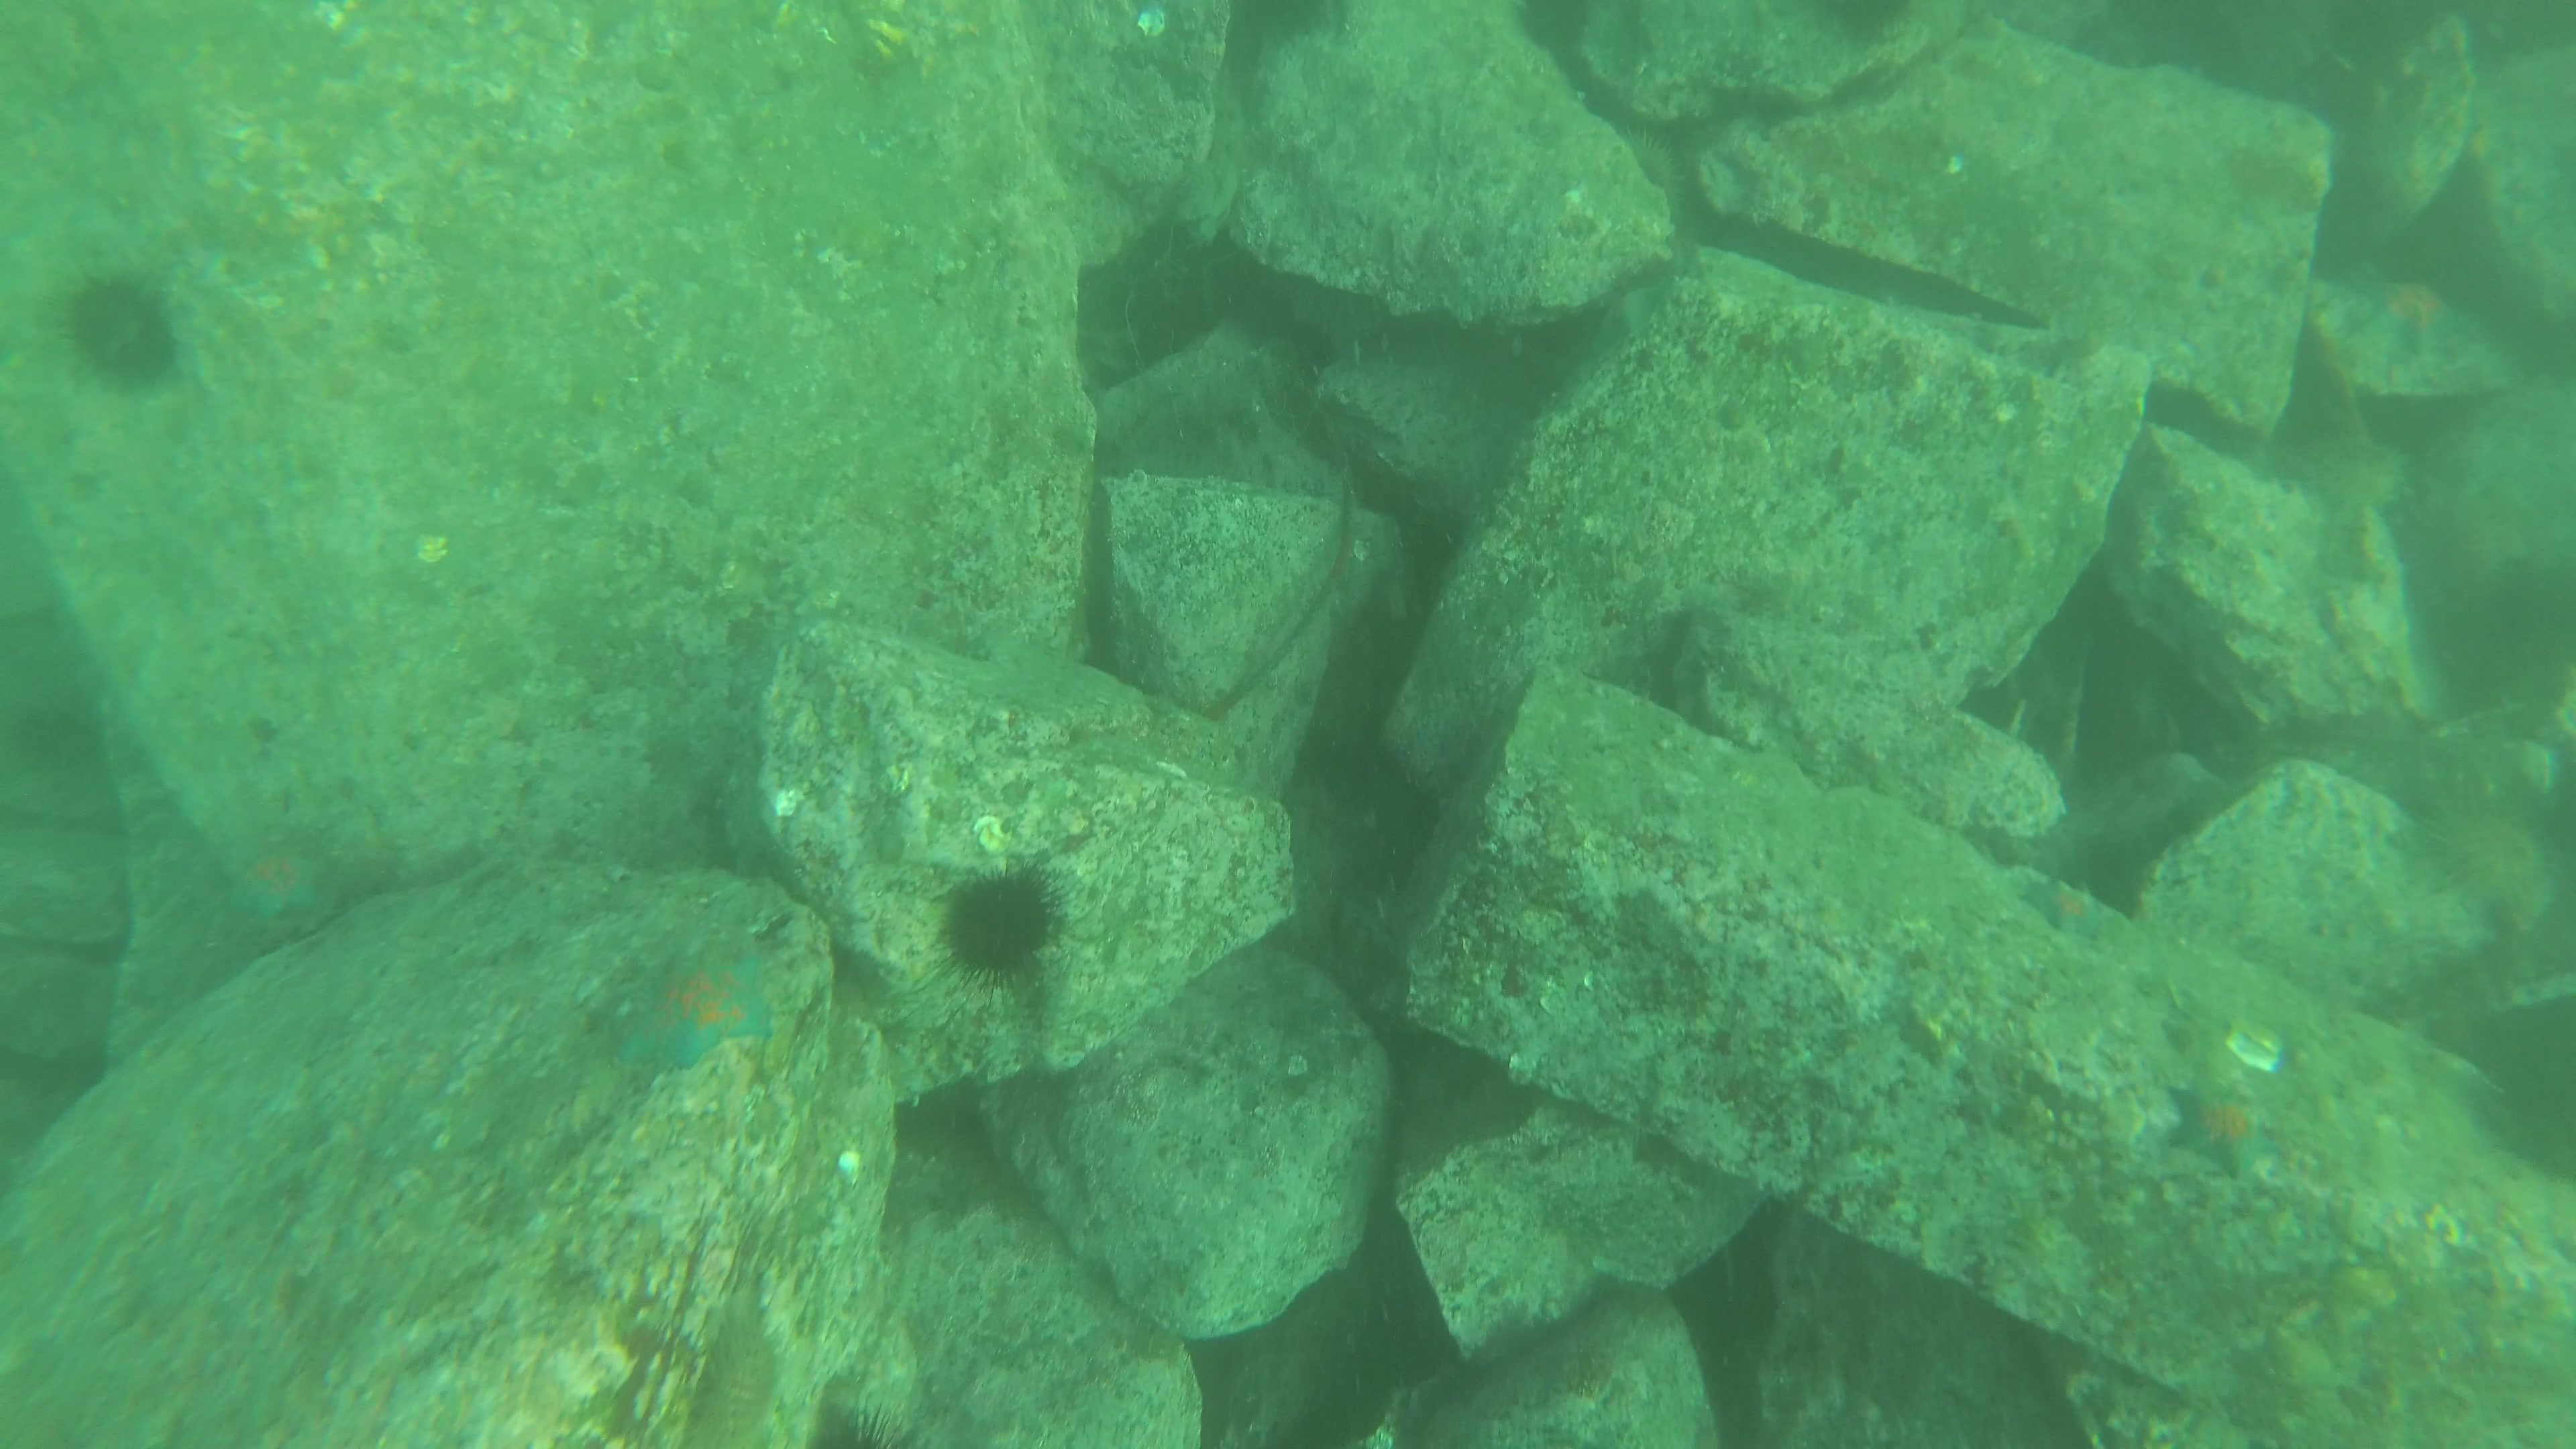echinus: (62, 276, 180, 395), (943, 867, 1063, 982)
starfish: (628, 945, 777, 1070), (2351, 269, 2486, 375), (2173, 1074, 2284, 1182), (226, 837, 327, 934), (2019, 867, 2104, 939)
